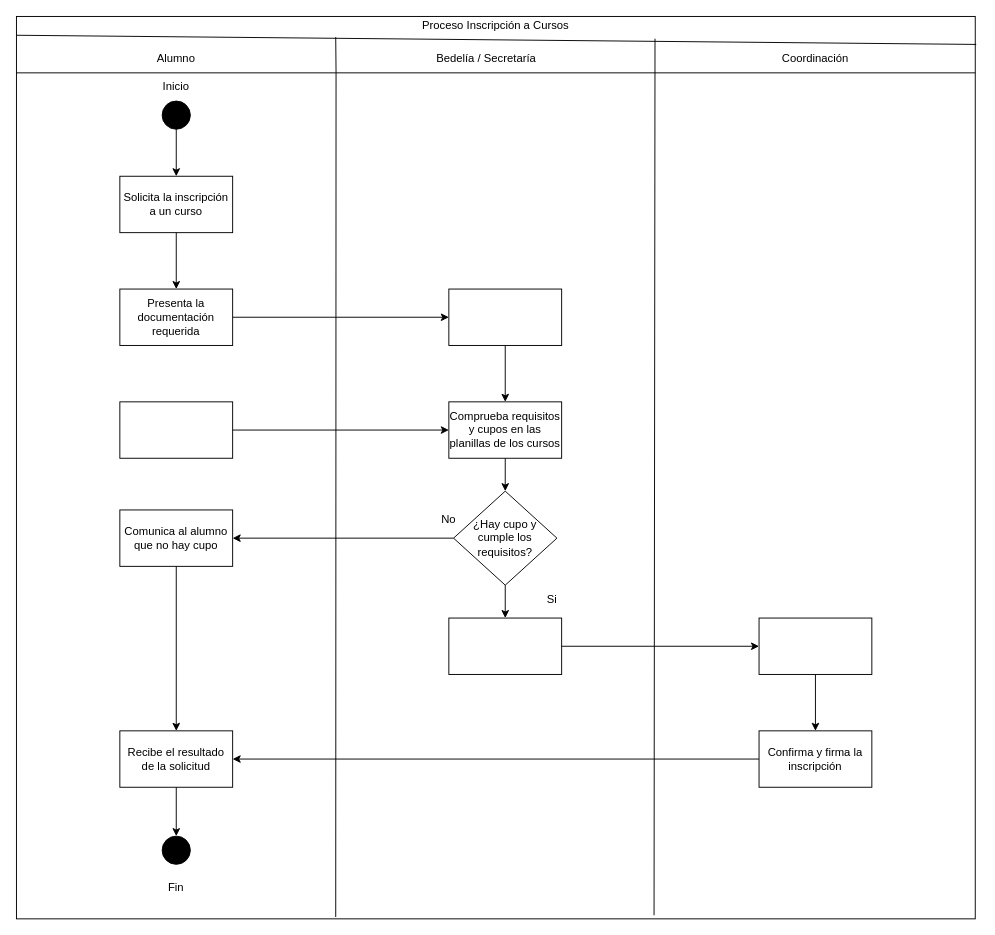
The diagram is 995 pixels wide and 935 high, and some of its shapes have lost their labels. The shapes that lost their labels are listed below. From the top down, each one's centre as x and y in pixels, then its label:
At point 505,316: "Recibe la solicitud y la documentación".
At point 176,429: "Eleva el formulario a Coordinación".
At point 505,645: "Eleva la solicitud a Coordinación".
At point 815,645: "Revisa la solicitud".
